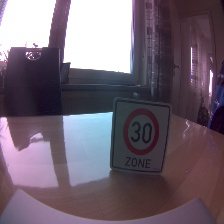dreisiger_zone: (109, 96, 171, 176)
